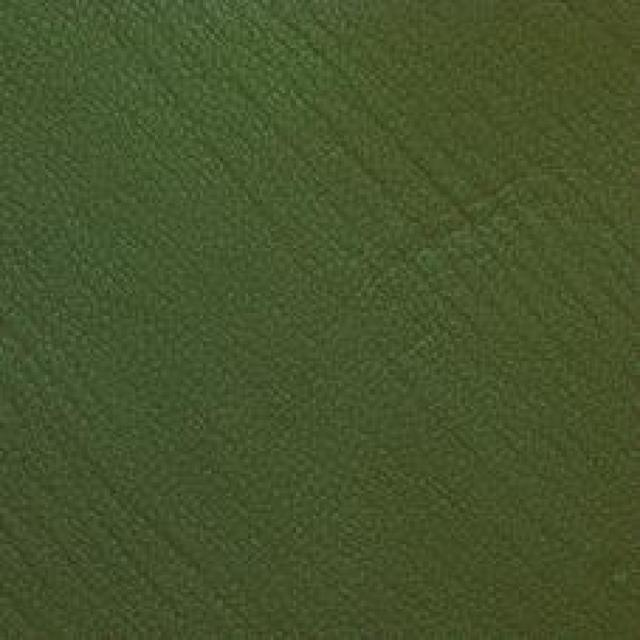Growth Marks: (276, 77, 579, 297), (18, 391, 208, 622)
